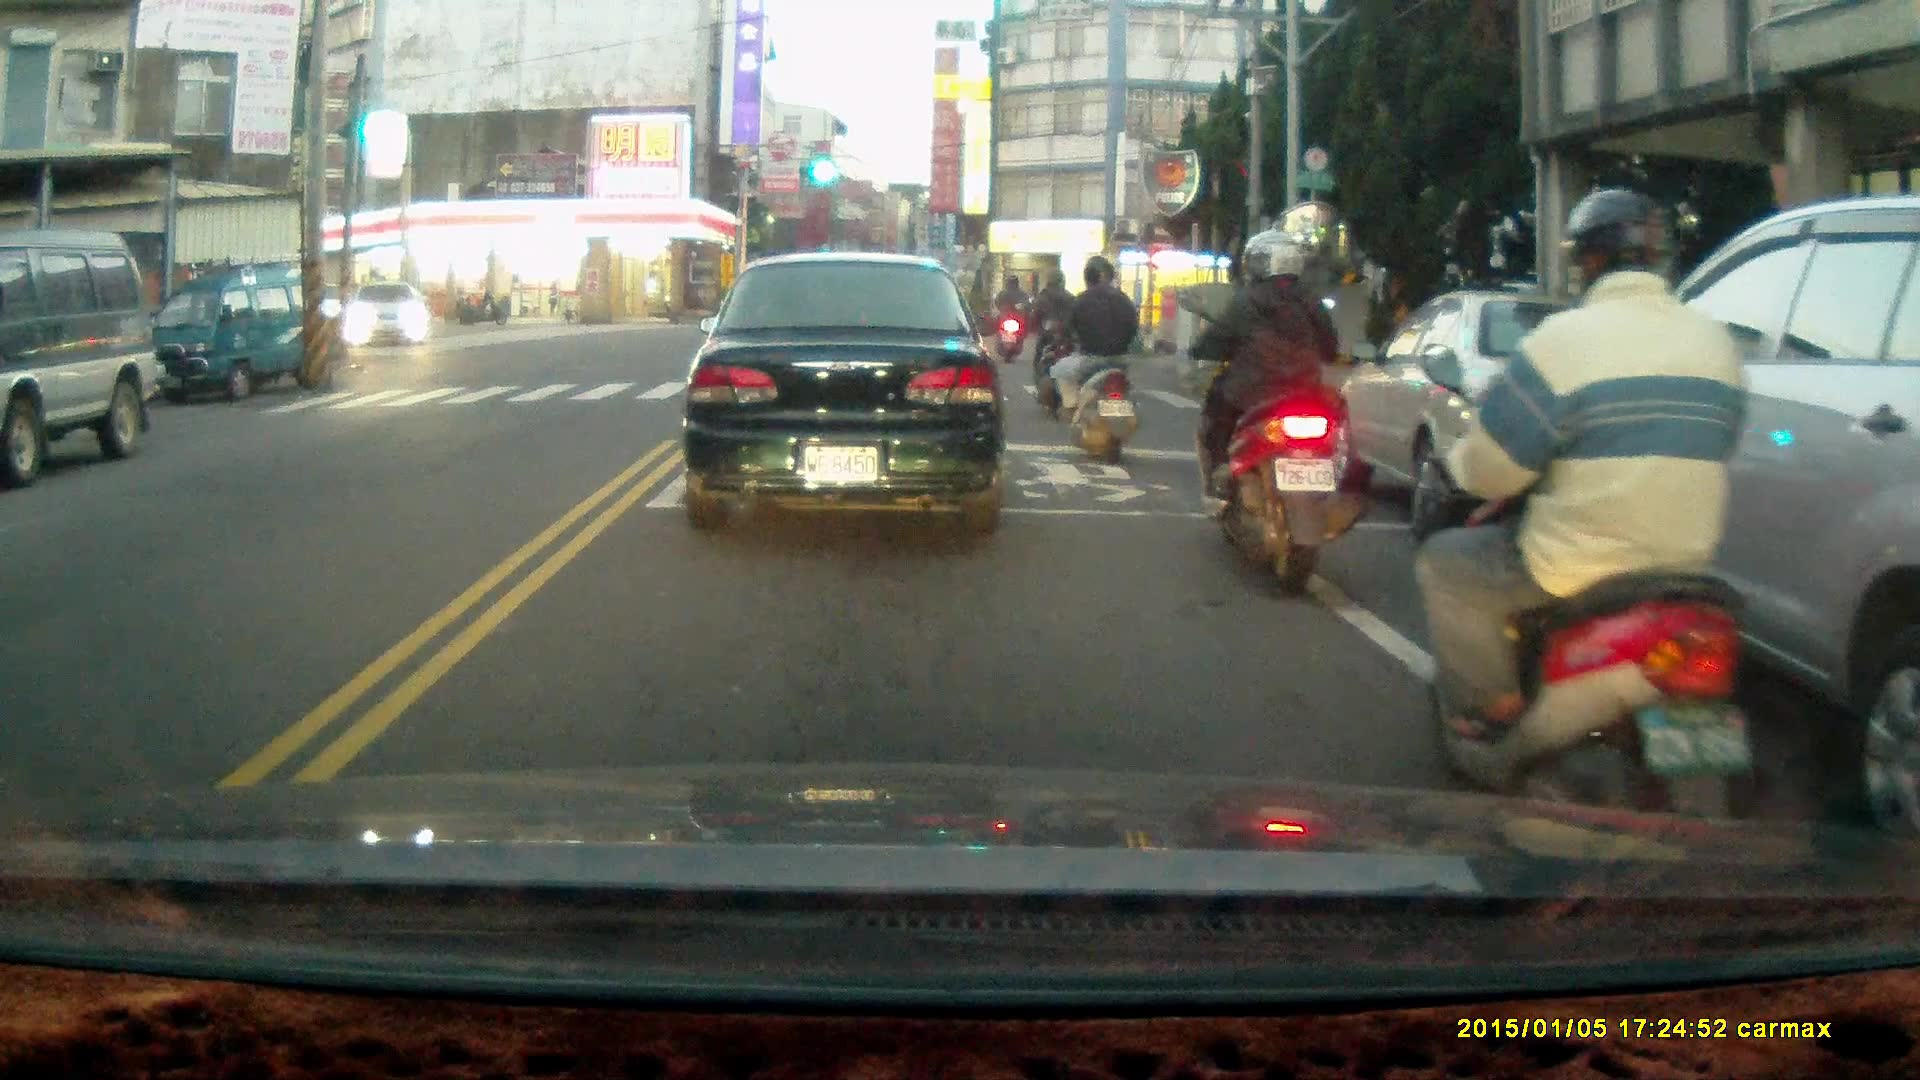rider: (1412, 188, 1775, 887), (1185, 227, 1366, 598), (1043, 253, 1137, 465), (1015, 269, 1085, 420), (991, 276, 1033, 363)
vehicle: (1538, 195, 1920, 850), (1332, 293, 1720, 550), (682, 252, 1015, 538), (1, 234, 149, 475), (146, 263, 330, 406), (345, 285, 432, 354)
